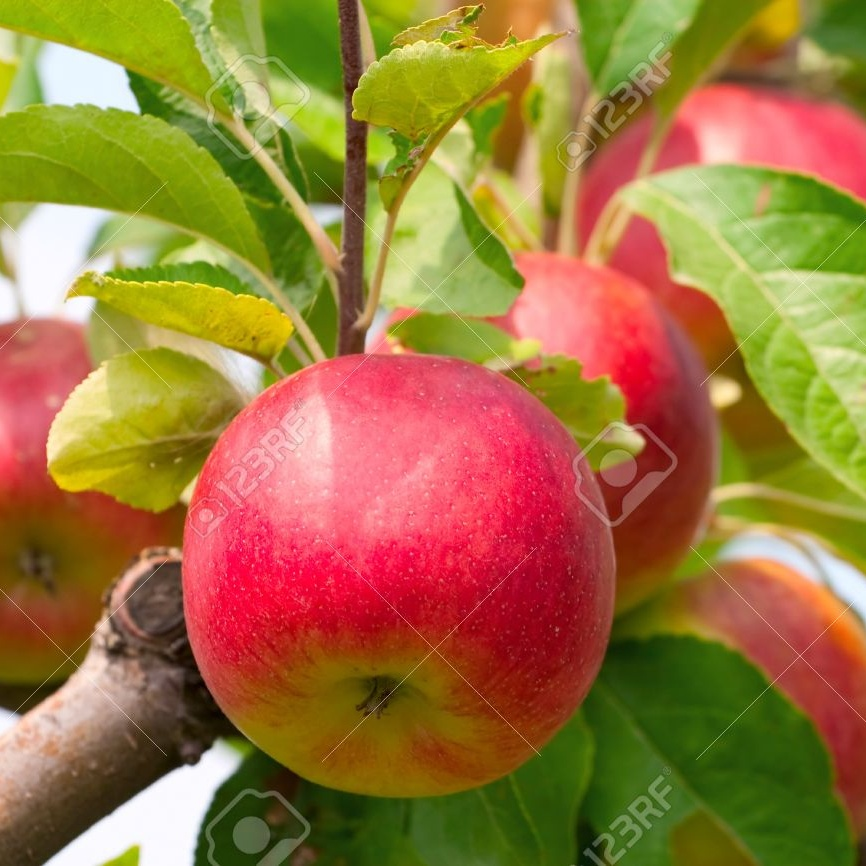apple: (174, 342, 615, 801), (368, 248, 713, 591), (561, 85, 849, 457), (1, 317, 188, 690), (672, 556, 866, 832)
